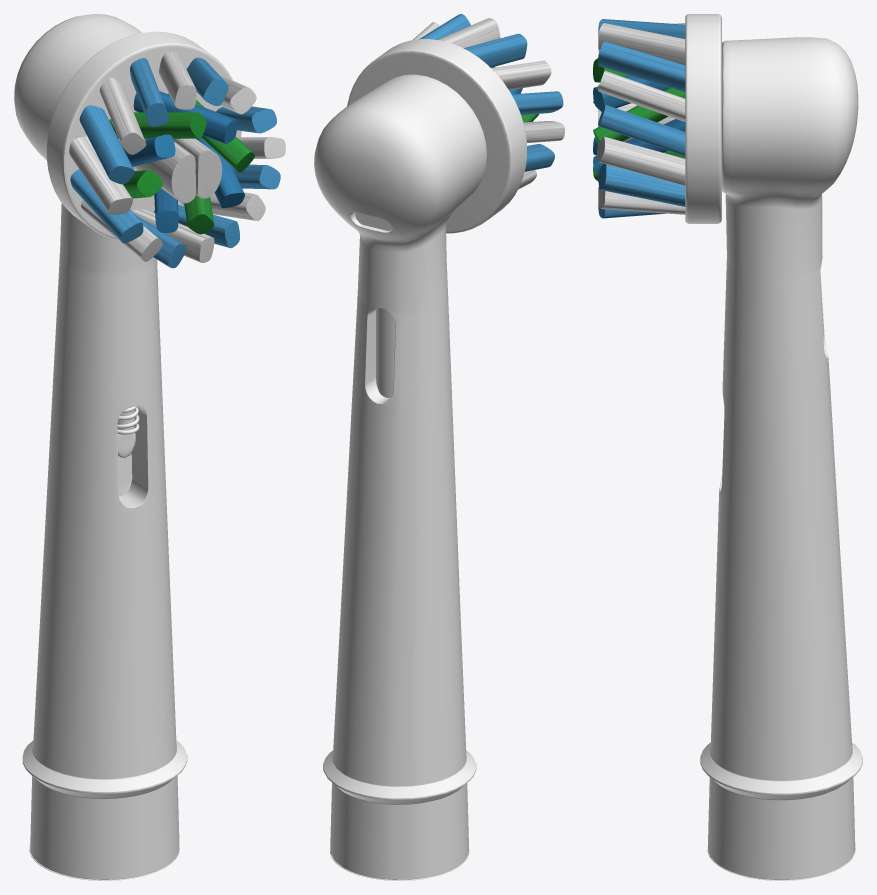
Rendered from oral-b_toothbrush_head.glb.
3 views of the same model, side by side, from view 1: azimuth 30°, elevation 25°; view 2: azimuth 150°, elevation 25°; view 3: azimuth 270°, elevation 25° (orthographic). The views are drawn at different scales.
Visible parts, largest first — view 1: Object_6; view 2: Object_6; view 3: Object_6.
Part boxes in pixels (box(x1,y1,x2,y2)): Object_6: box(14, 14, 285, 880); Object_6: box(314, 14, 564, 880); Object_6: box(593, 14, 862, 880).
Size of the model in its own units: 1.6 by 7.17 by 2.11.
Materials: 1 (1 with a texture image).
